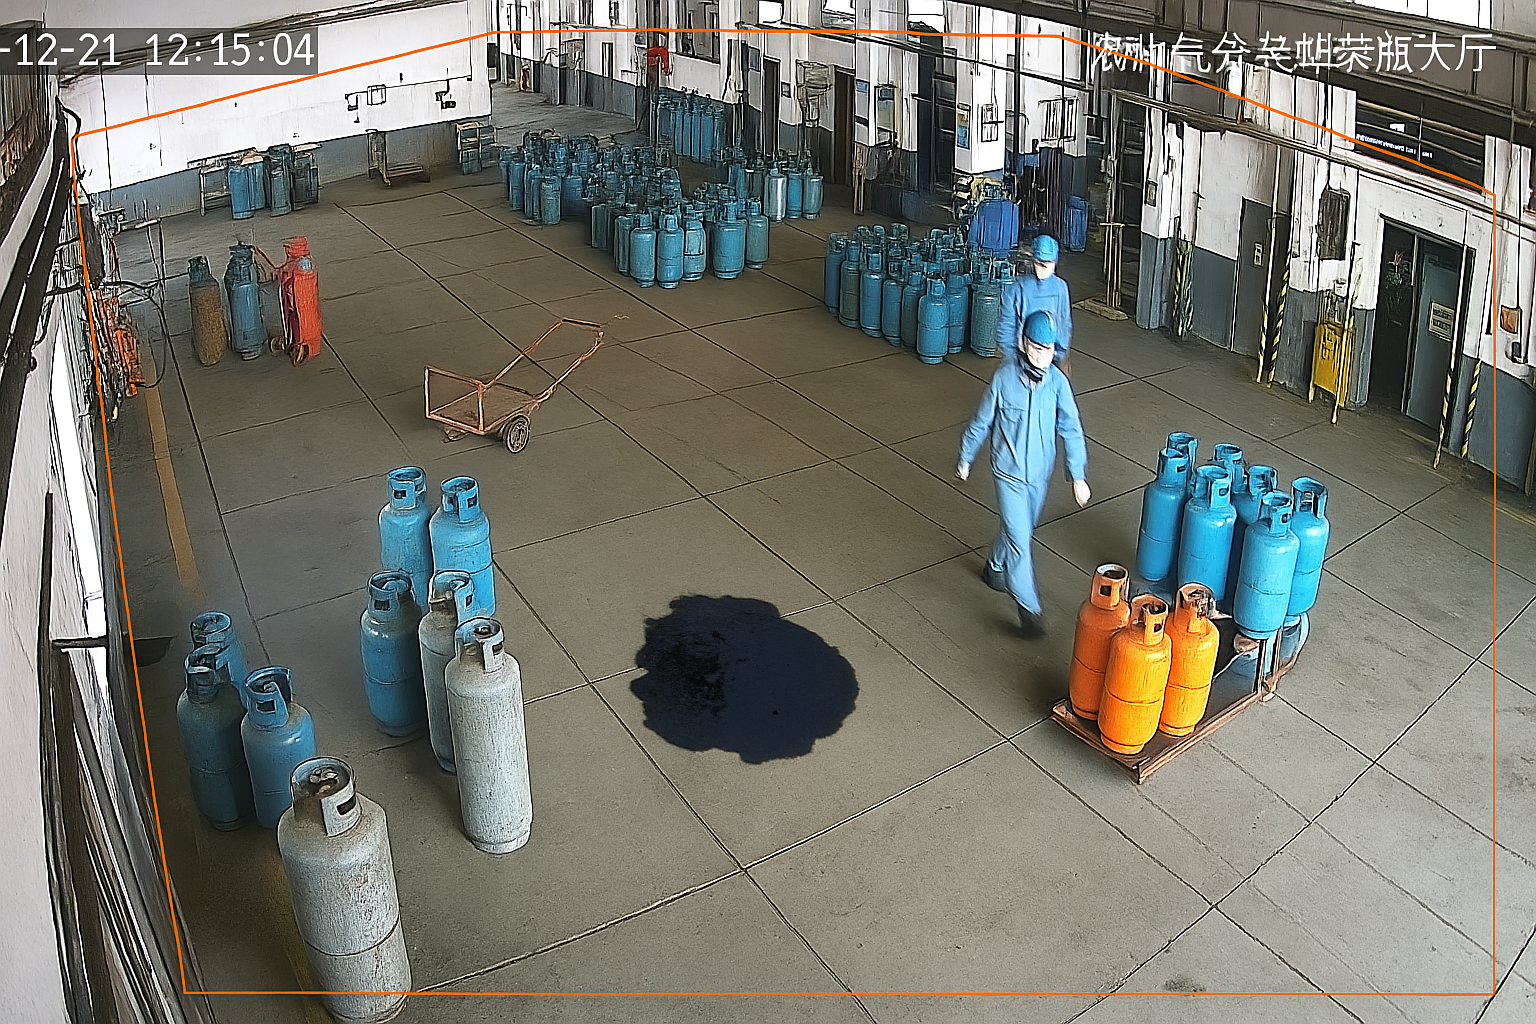oil_leakage: (615, 563, 870, 778)
